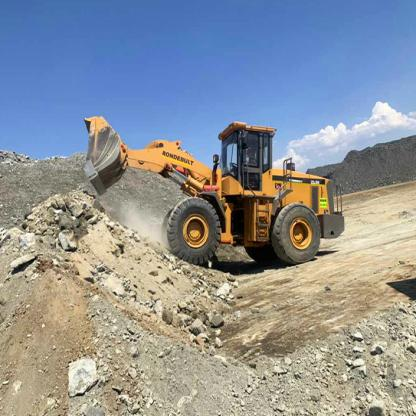bull_dozer/loader/grader: (67, 107, 351, 273)
